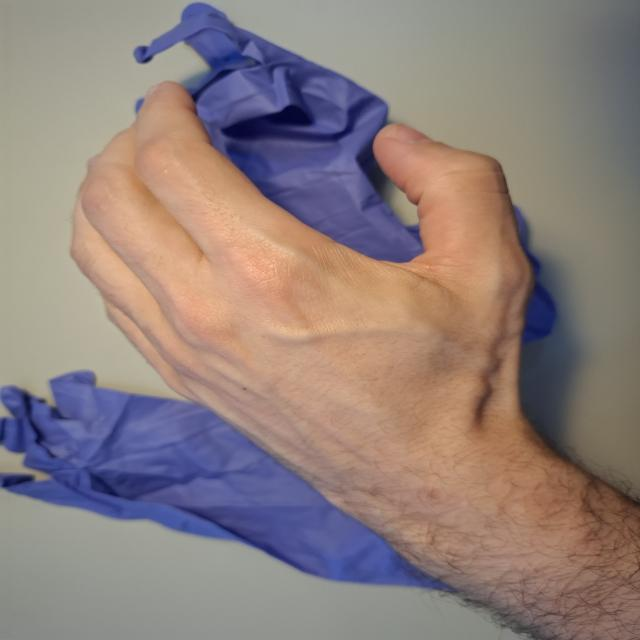glove_off: (63, 77, 542, 496)
